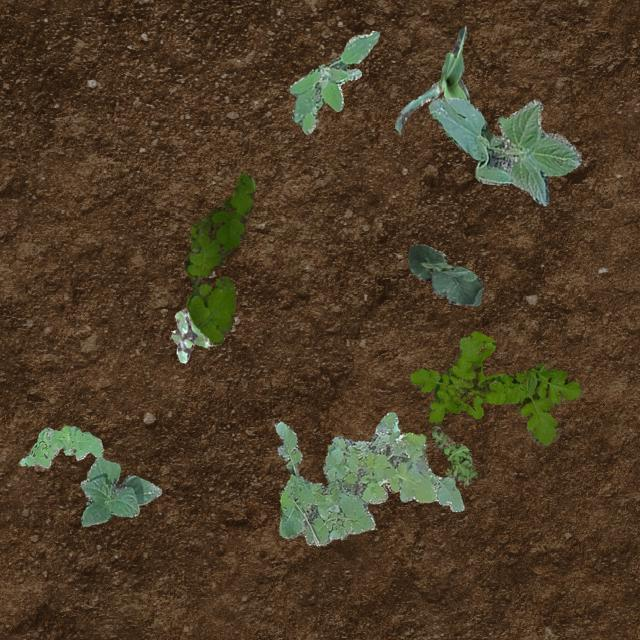crop: (428, 96, 580, 204), (394, 26, 468, 132), (80, 456, 160, 526), (408, 243, 482, 304)
weed: (274, 410, 462, 544), (408, 330, 582, 444), (182, 172, 254, 344), (290, 29, 378, 132), (18, 424, 102, 466), (430, 426, 476, 484), (170, 306, 216, 362)
